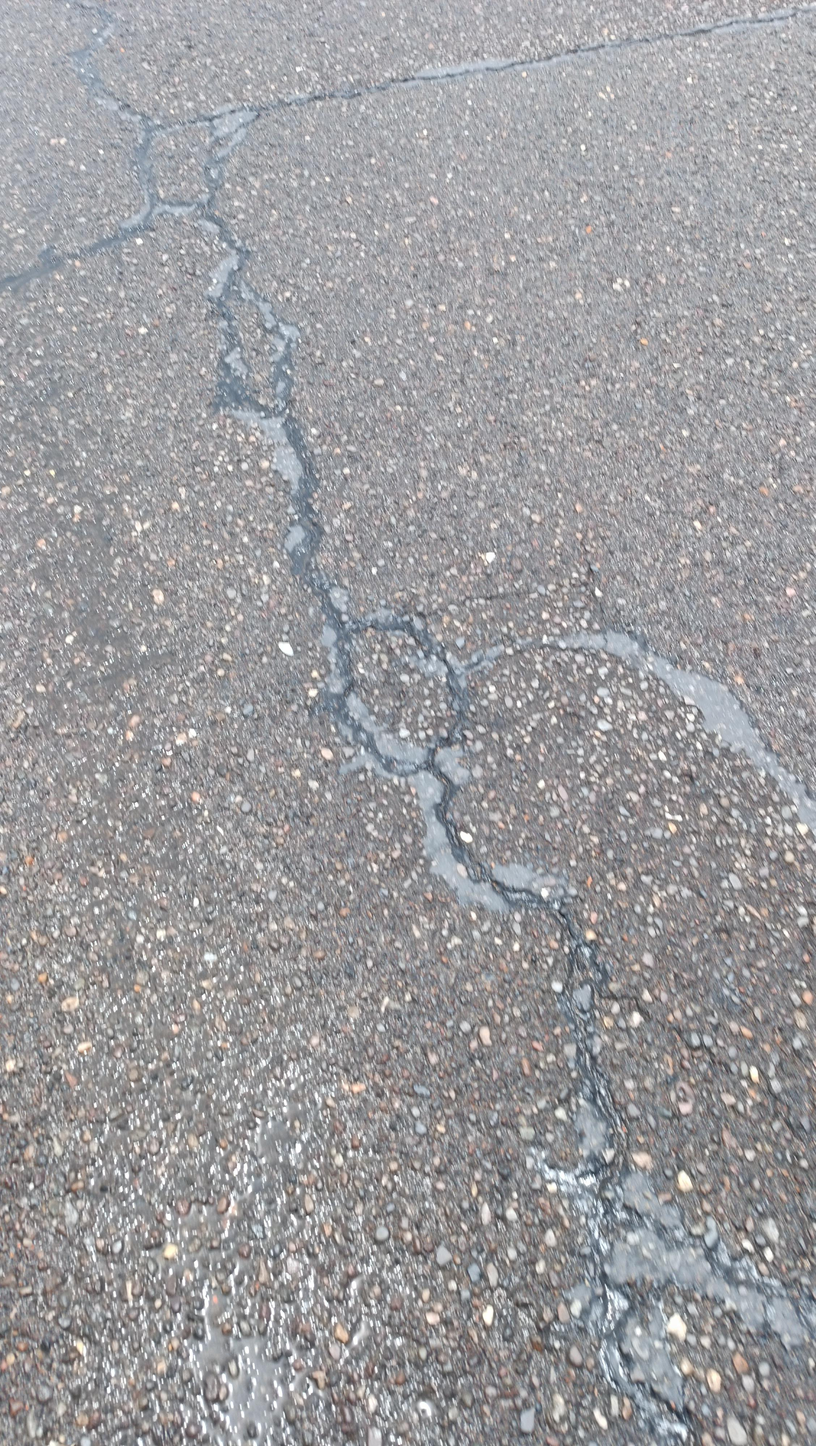GRIETA: (284, 415, 628, 1232), (152, 12, 802, 133), (462, 634, 816, 831), (0, 137, 162, 298), (191, 211, 269, 423), (356, 622, 467, 762), (610, 1280, 701, 1445), (69, 0, 151, 127), (236, 277, 295, 414)
